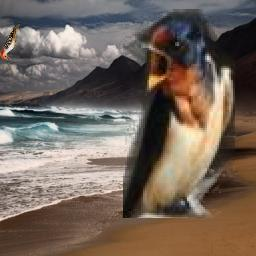Swallow: (123, 10, 235, 219)
Woodpecker: (0, 20, 20, 60)
